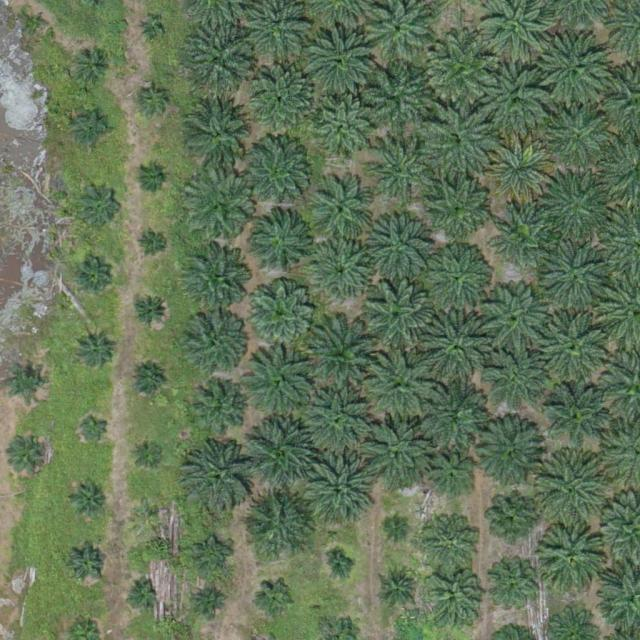Healthy: (306, 317, 384, 396), (180, 439, 258, 518), (534, 520, 605, 591), (184, 24, 255, 95), (184, 96, 255, 167), (426, 34, 497, 105), (245, 279, 316, 350), (185, 174, 256, 245), (474, 420, 544, 491), (422, 313, 493, 383), (414, 376, 484, 447), (360, 414, 430, 485), (303, 385, 373, 456), (247, 351, 317, 422), (247, 417, 318, 487), (546, 102, 616, 173), (539, 170, 609, 241), (361, 64, 432, 134), (421, 174, 492, 244), (366, 136, 436, 207), (364, 281, 434, 352), (242, 139, 312, 210), (181, 248, 251, 319), (536, 452, 606, 522), (367, 350, 437, 420), (302, 453, 372, 523), (242, 489, 312, 559), (538, 34, 608, 104), (539, 240, 609, 310), (539, 310, 609, 380), (306, 25, 376, 95), (481, 65, 551, 135), (483, 283, 553, 353), (424, 108, 494, 178), (427, 249, 490, 312), (369, 214, 432, 277), (312, 240, 375, 303), (545, 388, 607, 451), (253, 66, 315, 129), (314, 100, 376, 163), (312, 183, 374, 246), (252, 212, 315, 274), (185, 309, 247, 372), (423, 514, 478, 569), (428, 573, 483, 628), (191, 383, 246, 438), (496, 209, 550, 265), (488, 354, 542, 409), (491, 567, 538, 615), (426, 453, 473, 501)
Small: (490, 495, 537, 543), (77, 182, 124, 229), (13, 434, 53, 474), (75, 48, 114, 88), (74, 109, 113, 149), (76, 330, 115, 370), (68, 479, 107, 519), (129, 362, 168, 402), (131, 292, 170, 332), (7, 362, 46, 401), (75, 261, 114, 300), (68, 545, 107, 584), (193, 537, 232, 576), (258, 580, 297, 619), (139, 84, 170, 116), (197, 586, 228, 618), (133, 436, 164, 468), (133, 496, 164, 528), (126, 577, 157, 609), (80, 412, 111, 444), (136, 162, 167, 194), (383, 573, 414, 604), (139, 230, 170, 261), (388, 517, 412, 541), (25, 13, 49, 37), (140, 19, 164, 43), (329, 555, 352, 579)
Yellow: (485, 137, 555, 208)
